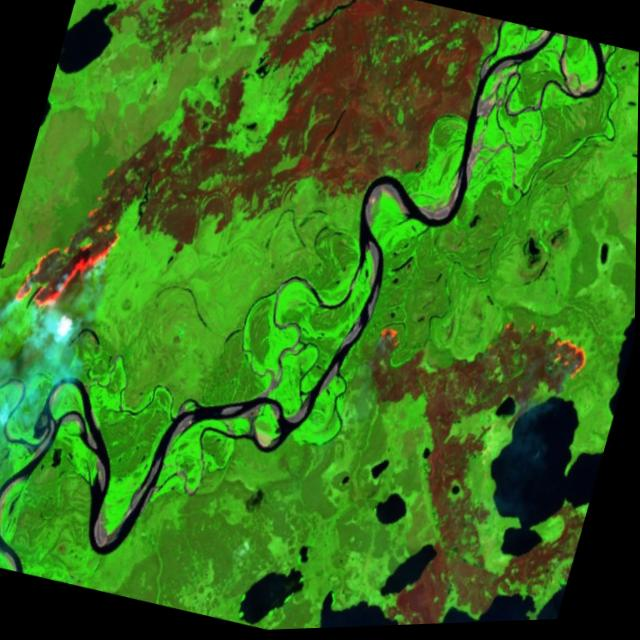fire: (0, 134, 146, 347), (480, 302, 600, 396), (375, 315, 412, 363)
